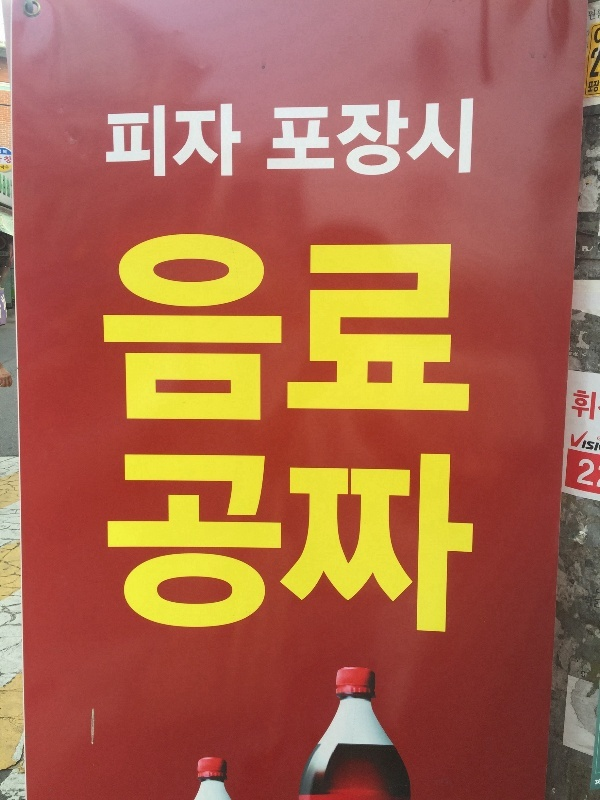text: (113, 232, 128, 422), (129, 232, 144, 422), (145, 232, 160, 422), (161, 232, 176, 422), (177, 232, 192, 422), (193, 232, 208, 422), (209, 232, 224, 422), (225, 232, 240, 422), (241, 232, 256, 422), (257, 232, 272, 422), (273, 232, 288, 422), (289, 232, 304, 422), (305, 232, 320, 422), (321, 232, 336, 422), (337, 232, 352, 422), (353, 232, 368, 422), (369, 232, 384, 422), (385, 232, 400, 422), (401, 232, 416, 422), (417, 232, 432, 422), (433, 232, 448, 422), (449, 232, 464, 422), (113, 455, 128, 634), (129, 455, 144, 634), (145, 455, 160, 634), (161, 455, 176, 634), (177, 455, 192, 634), (193, 455, 208, 634), (209, 455, 224, 634), (225, 455, 240, 634), (241, 455, 256, 634), (257, 455, 272, 634), (273, 455, 288, 634), (289, 455, 304, 634), (305, 455, 320, 634), (321, 455, 336, 634), (337, 455, 352, 634), (353, 455, 368, 634), (369, 455, 384, 634), (385, 455, 400, 634), (401, 455, 416, 634), (417, 455, 432, 634), (433, 455, 448, 634), (449, 455, 464, 634), (100, 232, 112, 422), (465, 455, 476, 634), (465, 232, 474, 422), (113, 102, 128, 180), (129, 102, 144, 180), (145, 102, 160, 180), (161, 102, 176, 180), (177, 102, 192, 180), (193, 102, 208, 180), (209, 102, 224, 180), (225, 102, 240, 180), (273, 99, 288, 177), (289, 99, 304, 177), (305, 99, 320, 177), (321, 99, 336, 177), (337, 99, 352, 177), (353, 99, 368, 177), (369, 99, 384, 177), (385, 99, 400, 177), (401, 99, 416, 177), (417, 99, 432, 177), (433, 99, 448, 177), (449, 99, 464, 177), (106, 455, 112, 634), (465, 99, 474, 177), (577, 388, 592, 421), (106, 102, 112, 180), (1, 293, 16, 322), (578, 457, 592, 488), (1, 173, 16, 201), (577, 432, 592, 453), (593, 47, 600, 78), (270, 99, 272, 177), (593, 432, 600, 453), (572, 388, 576, 421), (593, 388, 597, 421), (570, 432, 576, 453), (1, 156, 16, 164), (594, 28, 600, 45), (1, 149, 16, 155), (1, 165, 16, 171), (593, 9, 600, 21), (593, 81, 600, 93), (241, 102, 242, 180), (593, 457, 595, 488), (588, 9, 592, 21), (588, 81, 592, 93), (591, 47, 592, 78)
